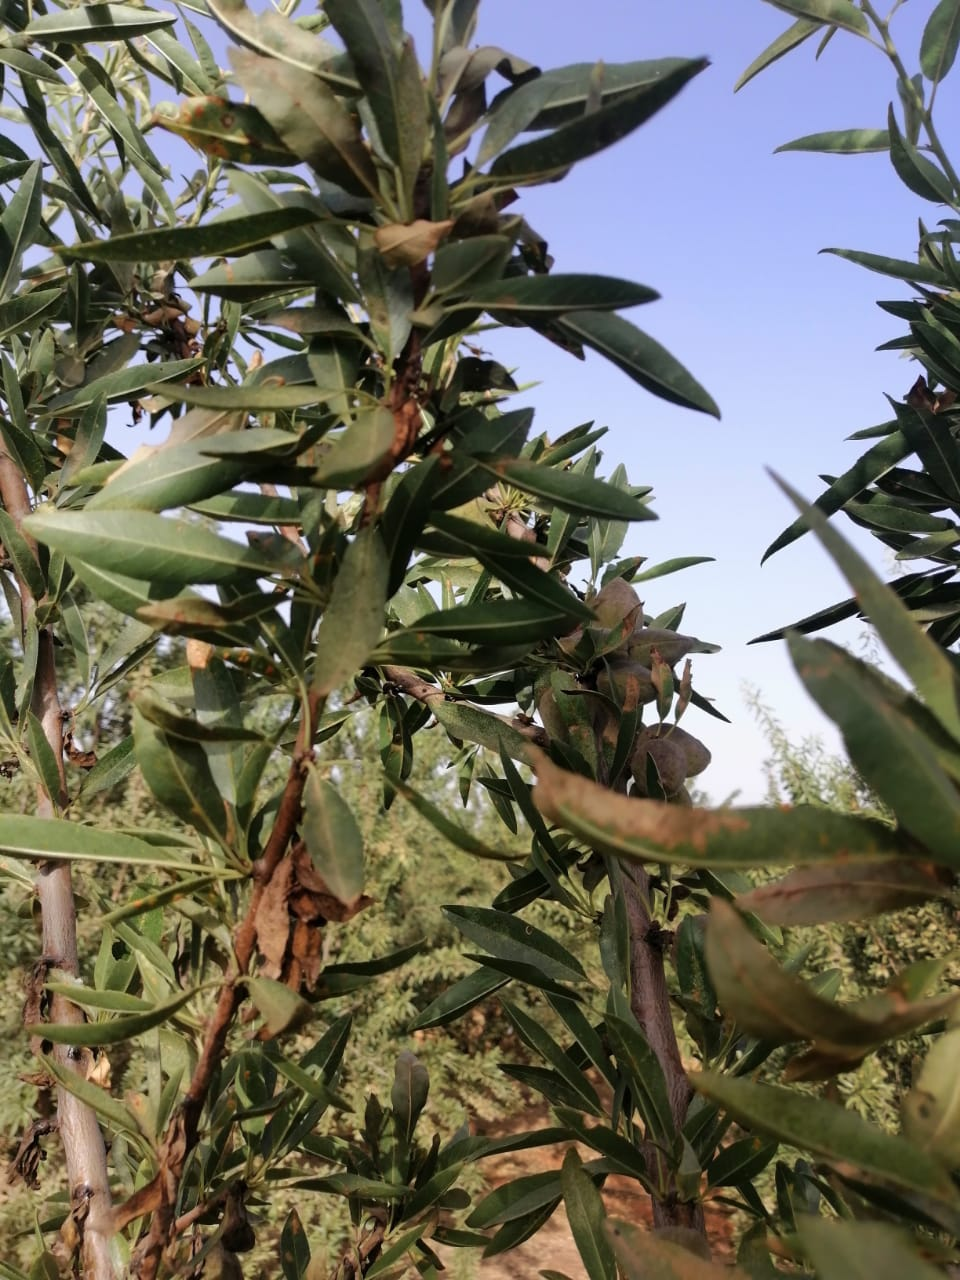scolytes: (88, 837, 386, 1280)
